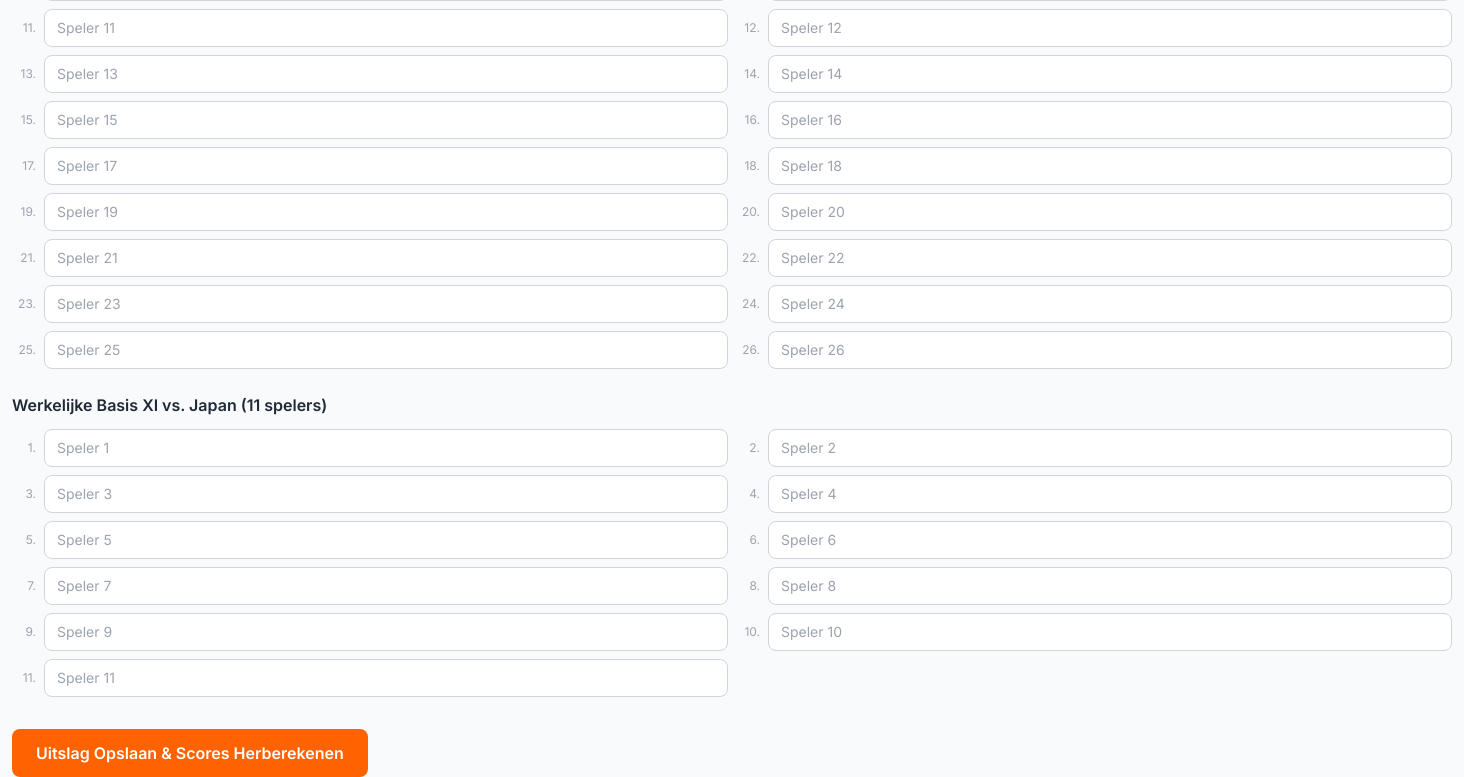
Test: AdminUitslagForm › shows success banner after save
This screenshot has width=1464, height=777.
(page scrolled)
Click the button: (190, 753) [12,729,368,776]
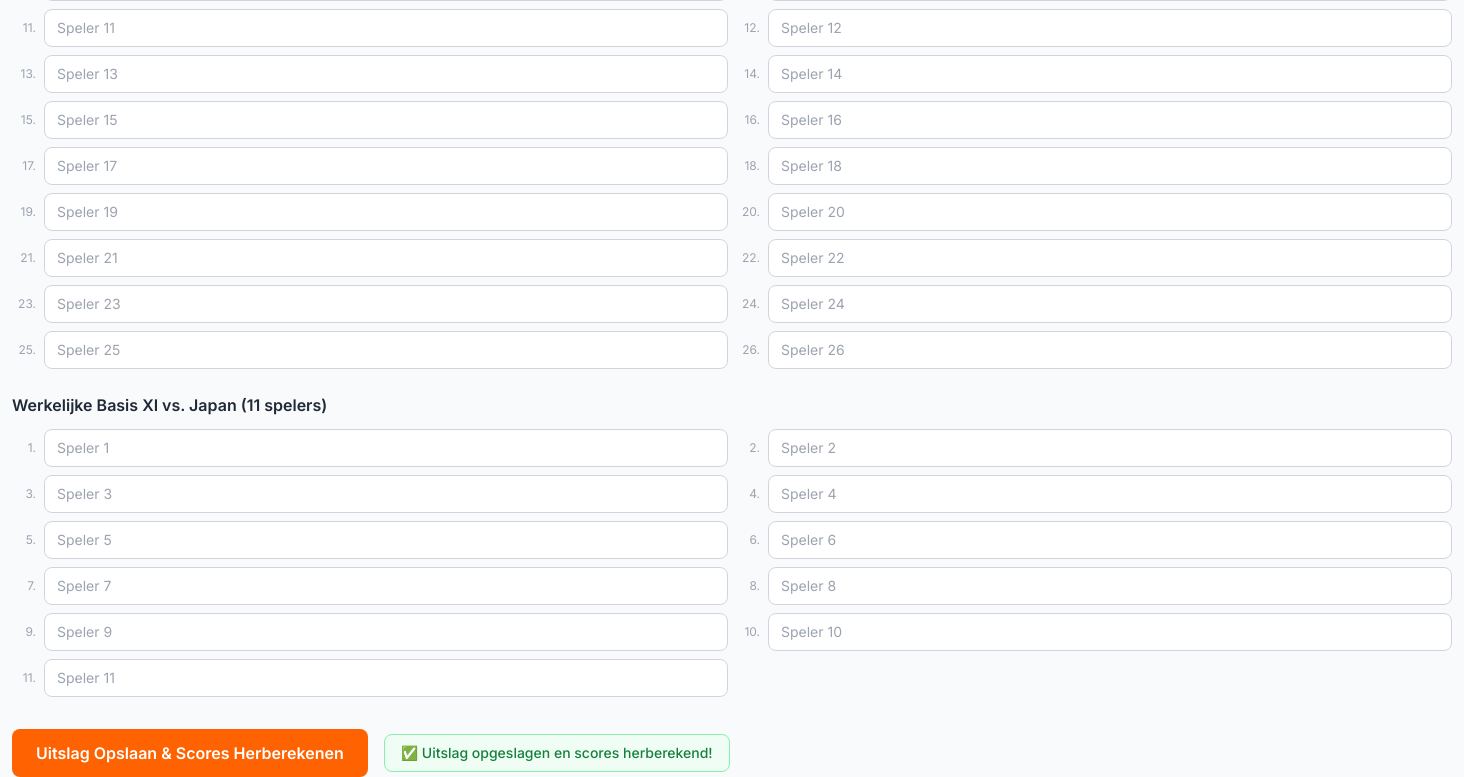
Check: the text "✅ Uitslag opgeslagen en scores herberekend!" is shown, box [384,734,730,772]
